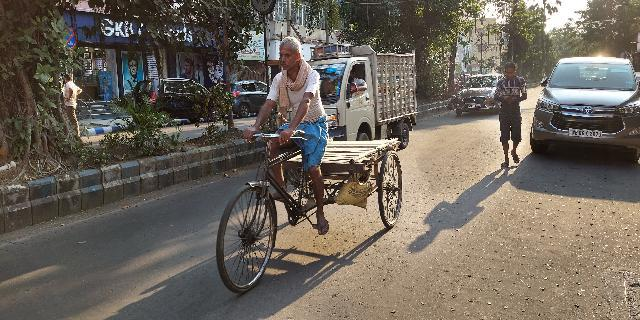Car: (528, 54, 640, 163), (450, 71, 497, 115)
Minitruck: (313, 44, 421, 150)
Van: (210, 37, 407, 302)
